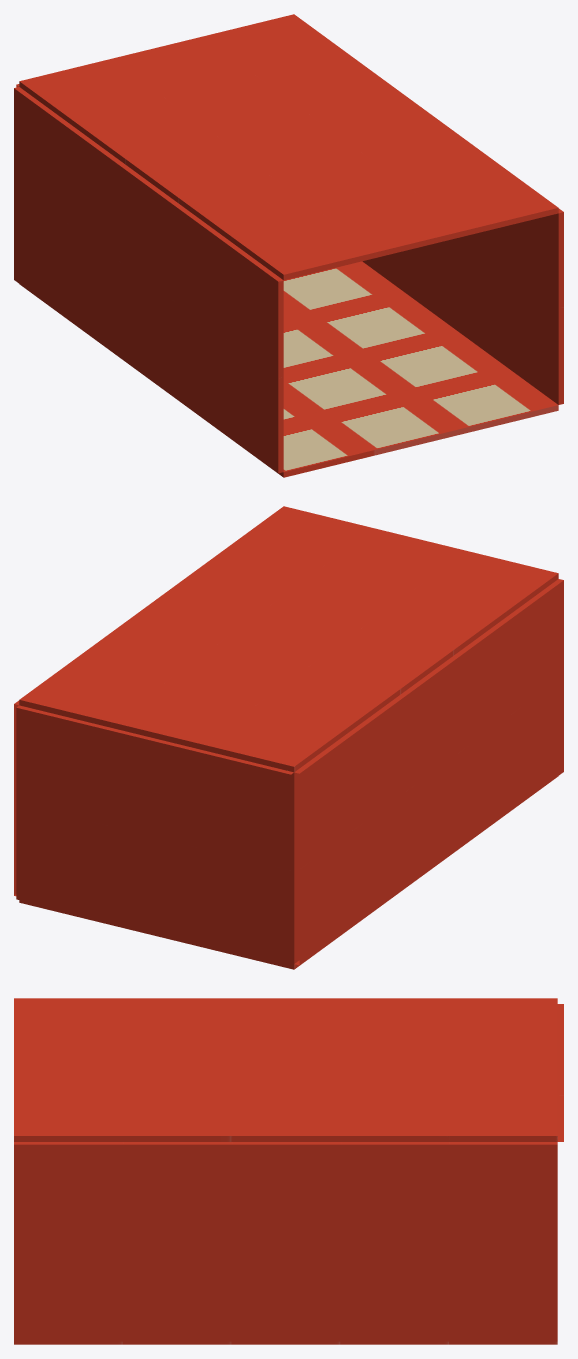
The model's file is CorredorFechado.fbx.
The picture shows the model from 3 angles, top to bottom: view 1: azimuth 30°, elevation 25°; view 2: azimuth 150°, elevation 25°; view 3: azimuth 270°, elevation 25°; orthographic projection. The views are drawn at different scales.
Parts seen in each view (by area): view 1: CorredorFechado; view 2: CorredorFechado; view 3: CorredorFechado.
Boxes of the visible parts, left/top/right/bottom form: CorredorFechado: left=14, top=14, right=563, bottom=477; CorredorFechado: left=14, top=506, right=563, bottom=969; CorredorFechado: left=14, top=998, right=563, bottom=1344.
Size of the model in its own units: 623 by 423 by 1012.
